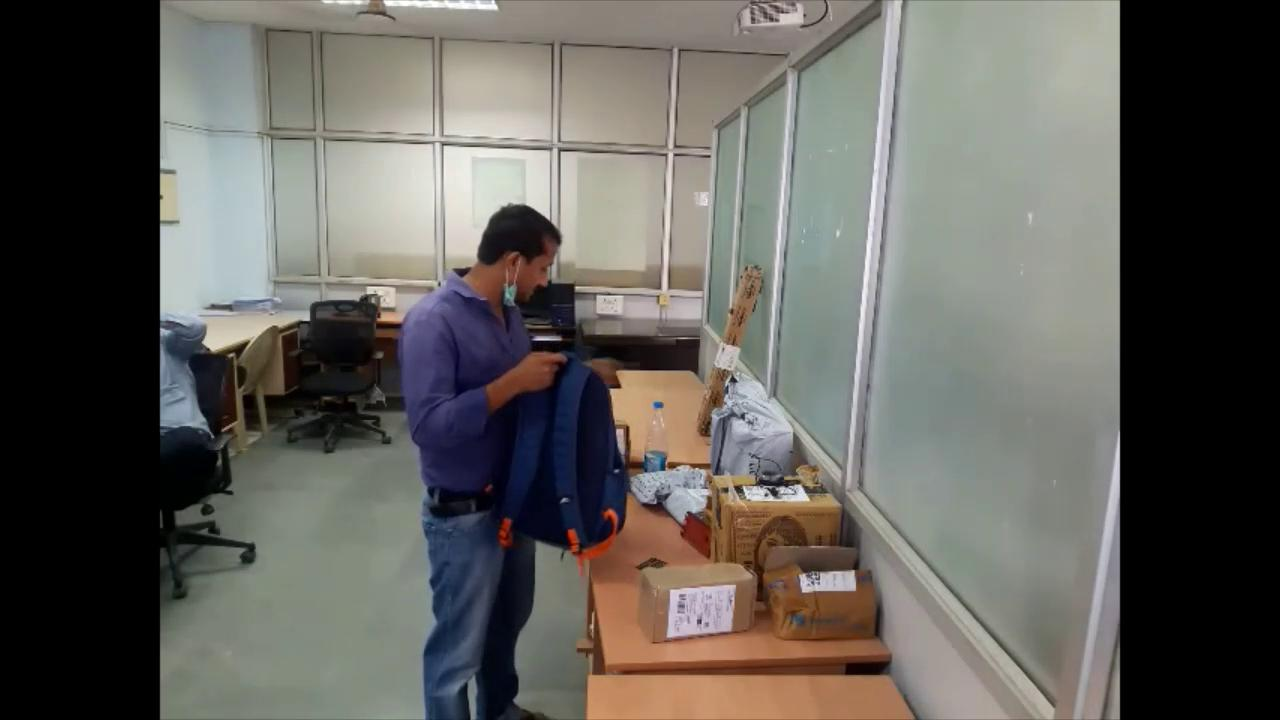shoplifting: (393, 195, 630, 720)
